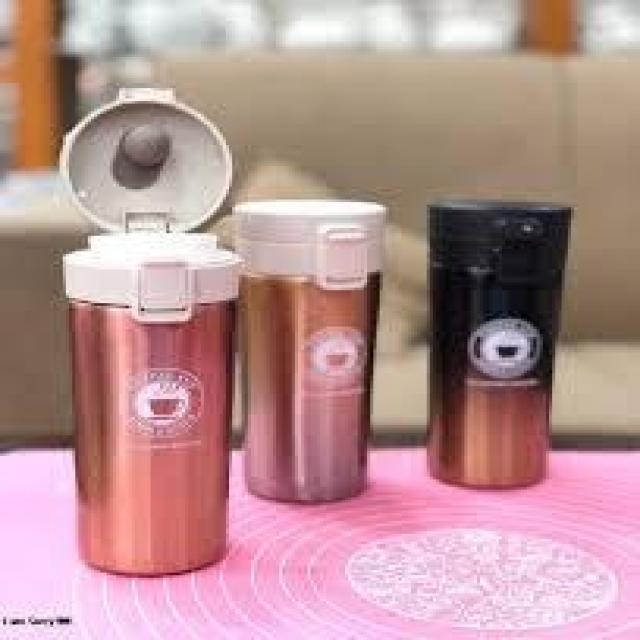bottle: (55, 230, 240, 580), (234, 187, 390, 510), (416, 192, 582, 489)
